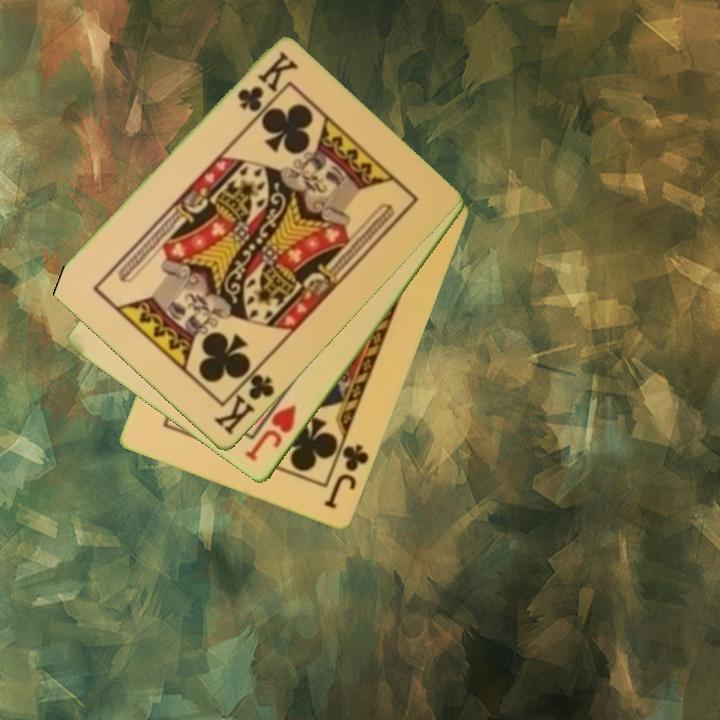Jc: (320, 441, 372, 513)
Jh: (242, 401, 300, 465)
Kc: (211, 362, 278, 439), (233, 48, 301, 116)
